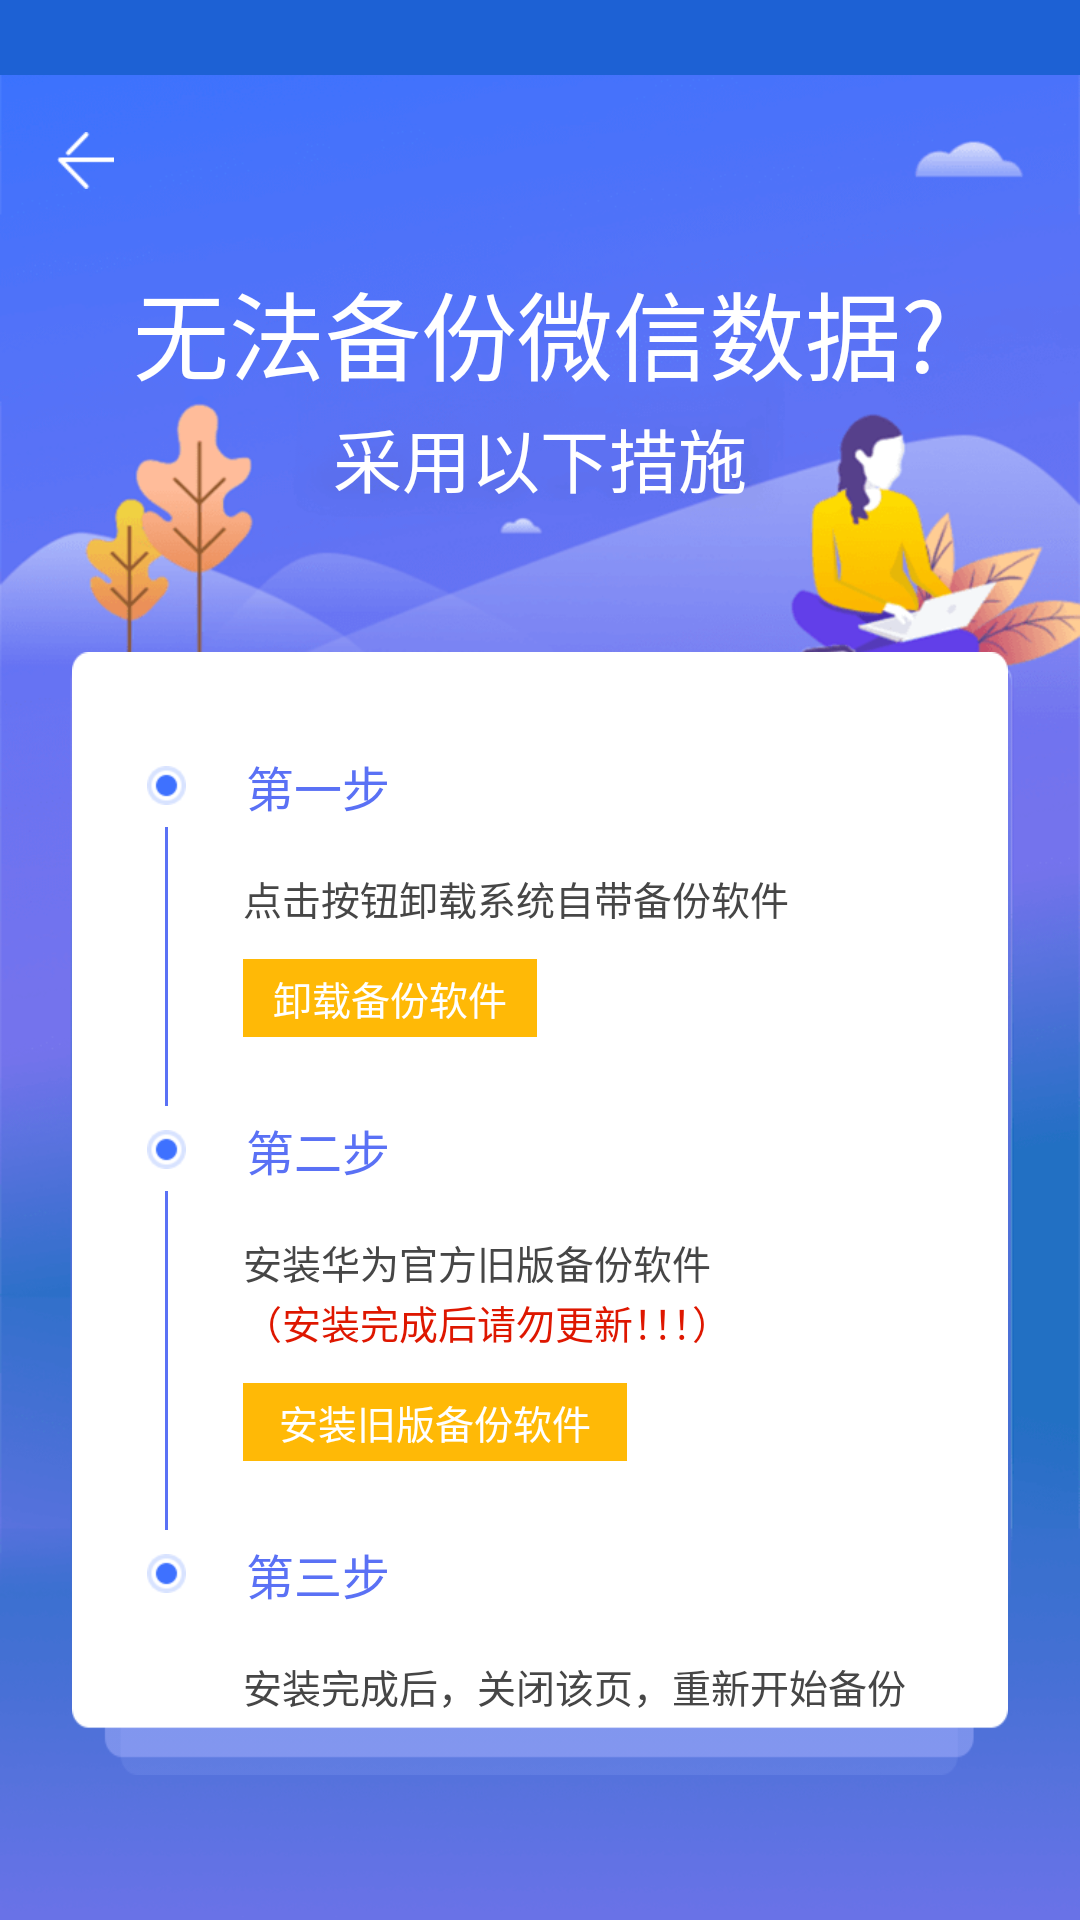

Icons on this 1080px×1920px Android screen, each with the point to tap as (x=x, y=y):
back: (x=85, y=160)
backup dot: (x=166, y=785), (x=166, y=1149), (x=166, y=1573)
